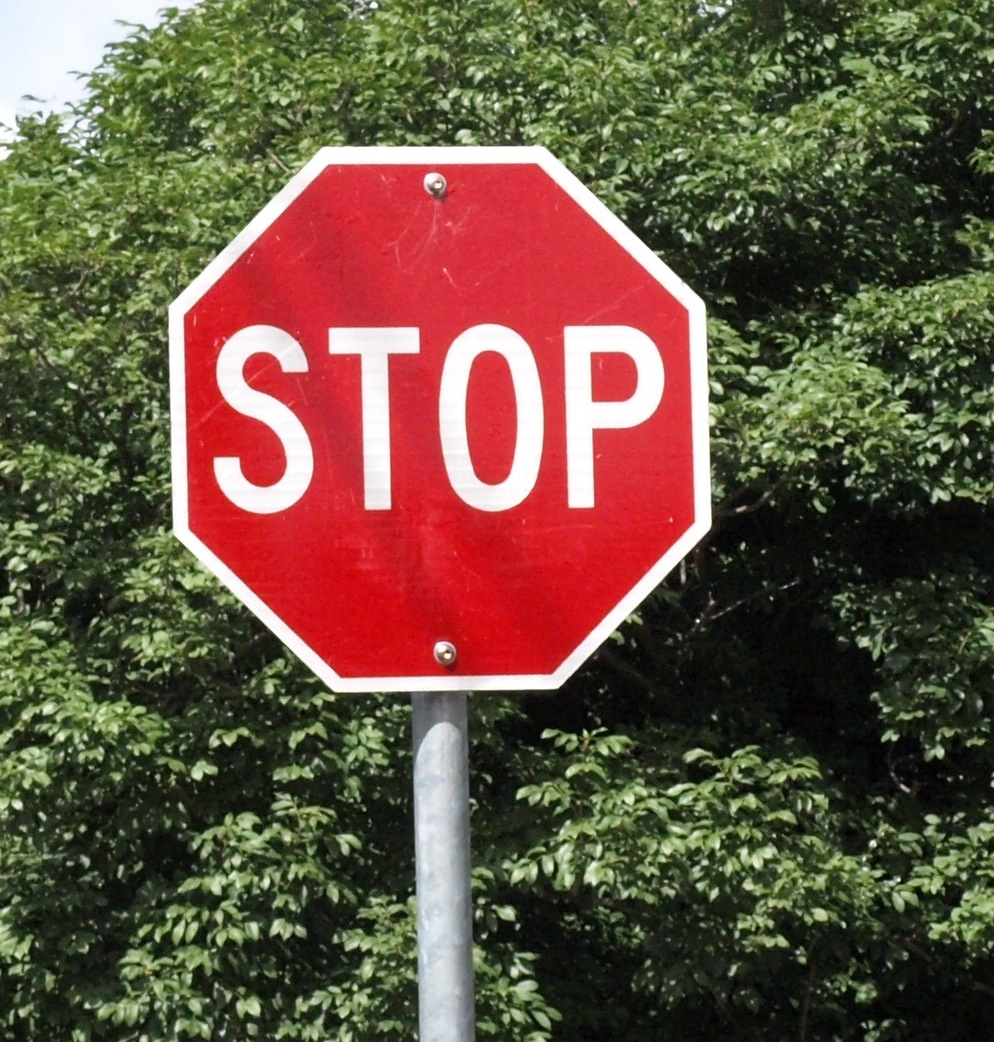stop: (165, 140, 718, 692)
